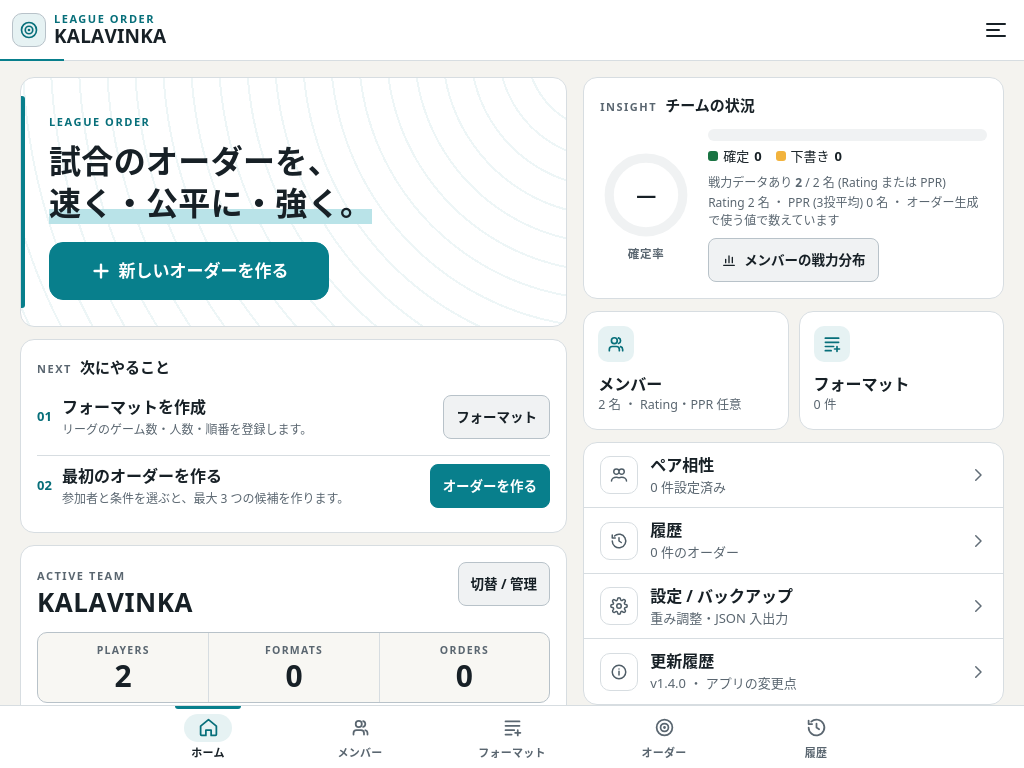
Test: linking an existing team › maps players by exact name, keeps local Rating, and adds the rest
The width and height of the screenshot is (1024, 768).
expect the heading named "KALAVINKA" is shown: met, box [53, 22, 166, 49]
What coordinates should you click on to do the following:
click the button "切替 / 管理"
I would click on:
 (504, 584)
Its box is [458, 562, 550, 606].
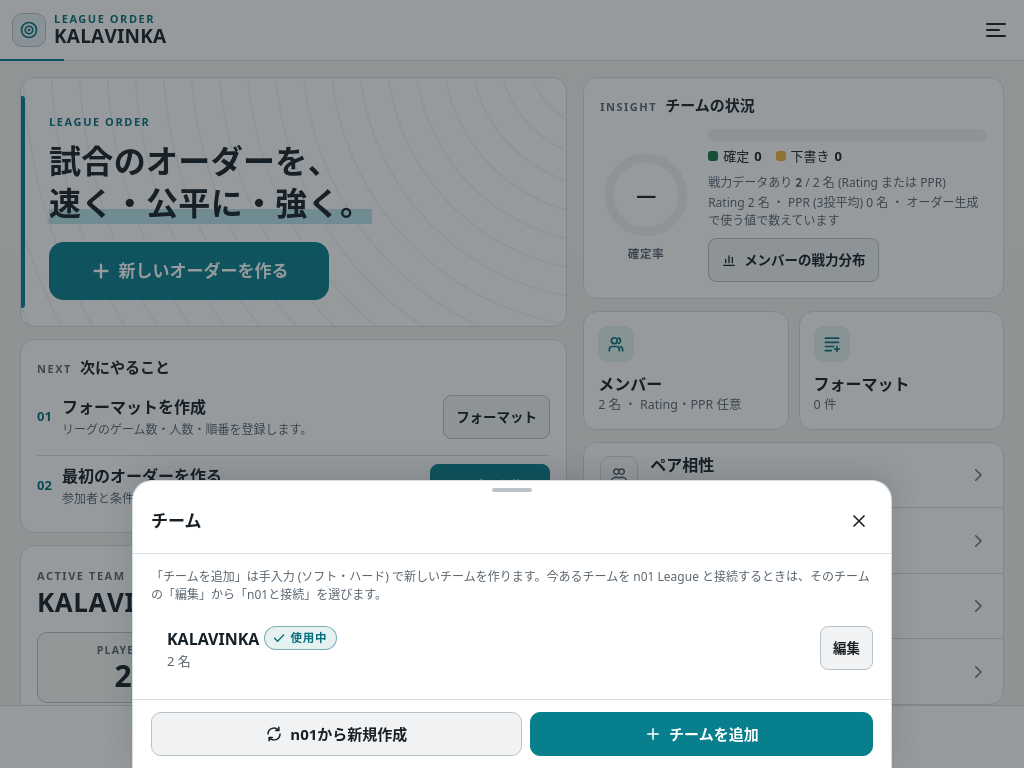
What coordinates should you click on to do the following:
click the button "編集"
I would click on:
 (846, 648)
Its box is [820, 626, 873, 670].
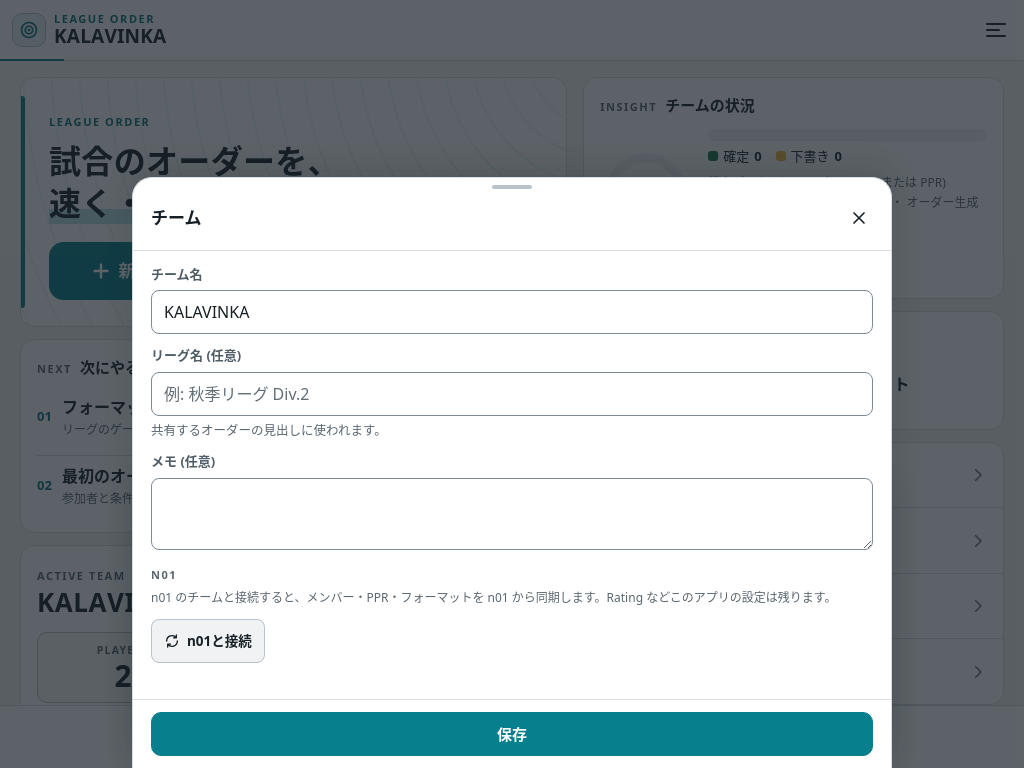
What coordinates should you click on to do the following:
click the button "n01と接続"
I would click on:
 (208, 641)
Its box is [151, 619, 265, 663].
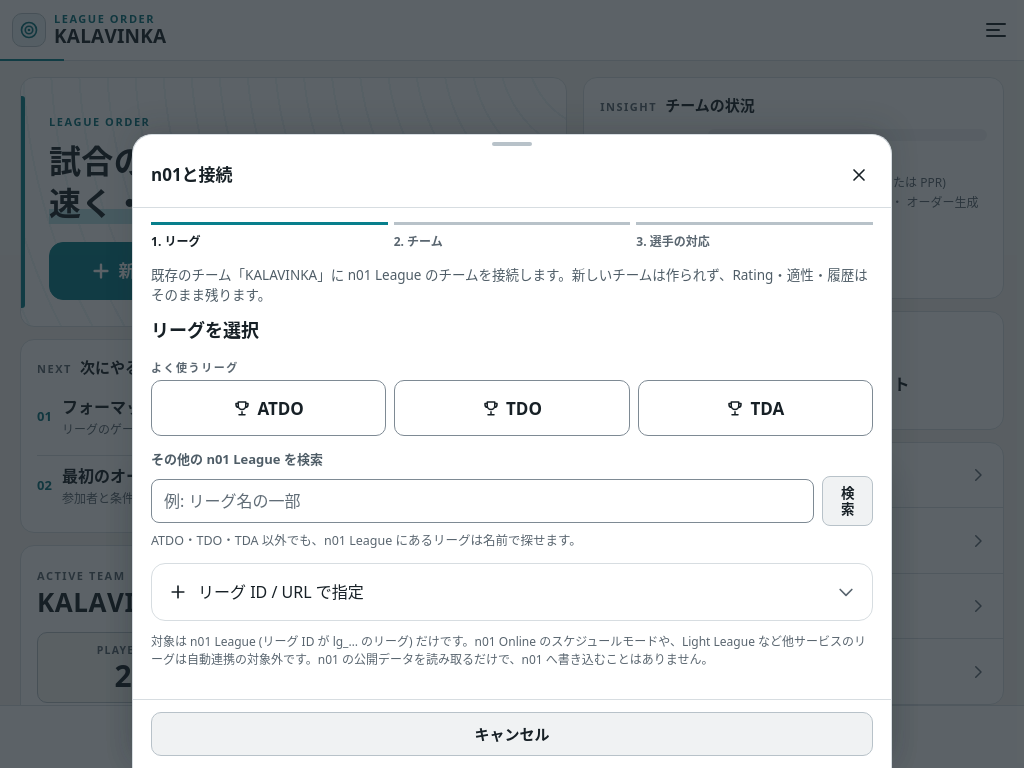
expect the text with test id "wizard-intro" shows "既存のチーム「KALAVINKA」に n01 League のチームを接続します": met, box [151, 266, 868, 304]
expect the text with test id "wizard-intro" shows "新しいチームは作られず": met, box [151, 266, 868, 304]
What coordinates should you click on to do the following:
click the button "ATDO"
I would click on:
 (269, 408)
Its box is [151, 380, 386, 436].
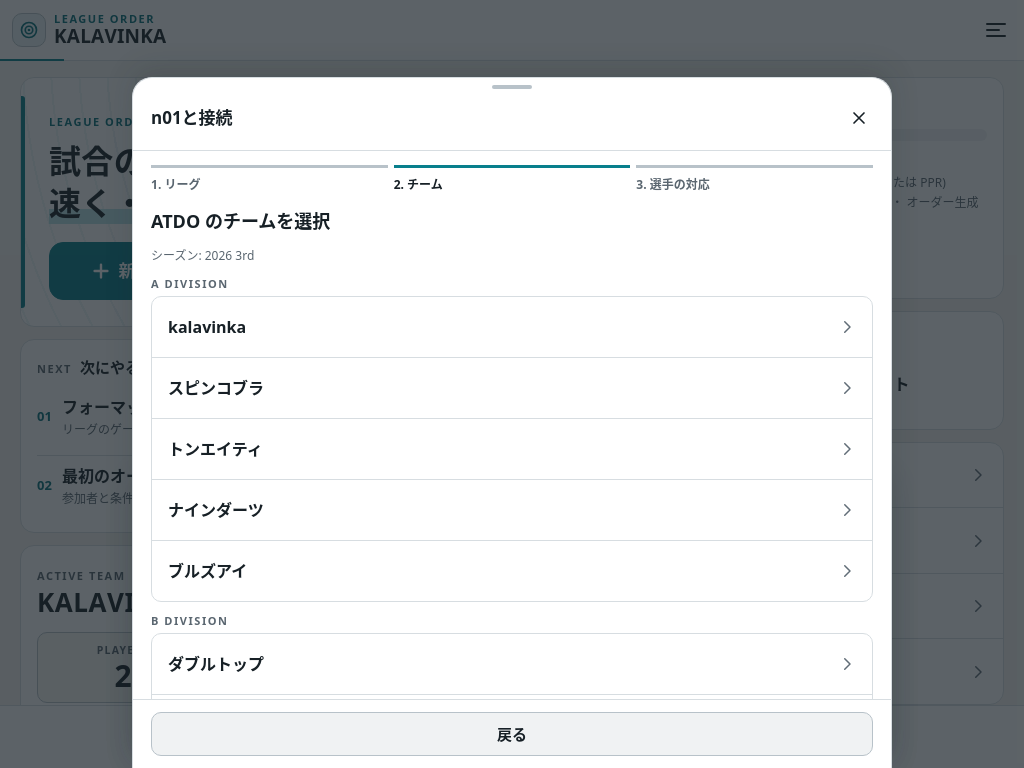
What coordinates should you click on to do the following:
click the button "kalavinka"
I would click on:
 (207, 327)
Its box is [152, 297, 872, 357].
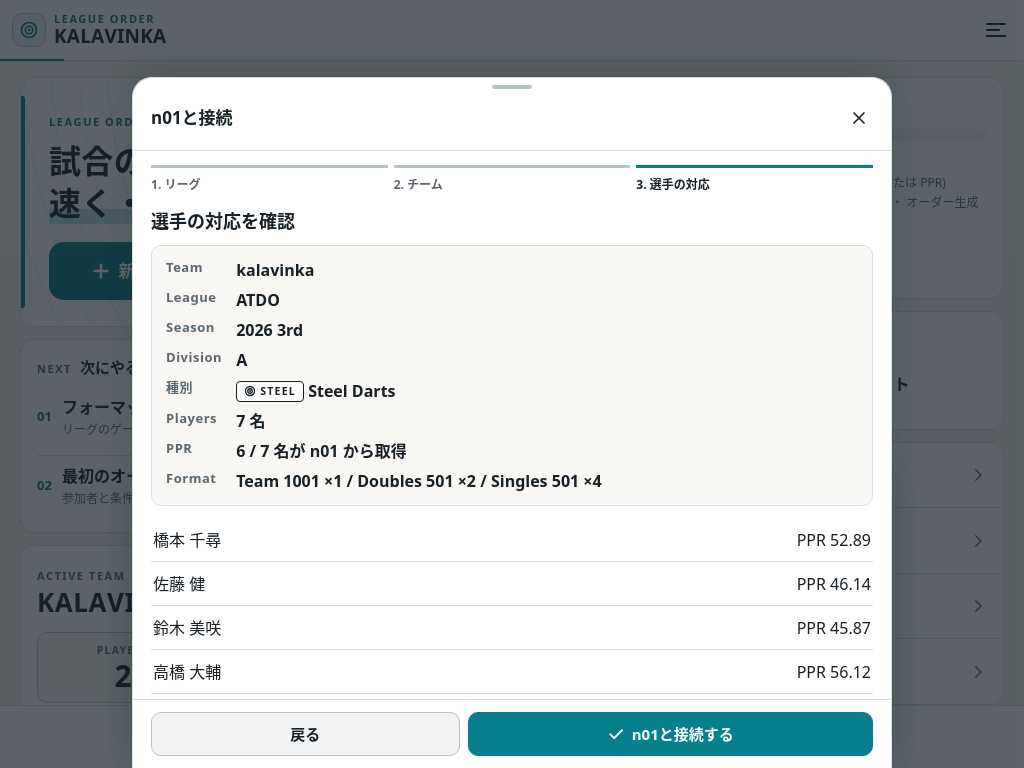
What coordinates should you click on to do the following:
click the button "n01と接続する"
I would click on:
 (670, 734)
Its box is [468, 712, 873, 756].
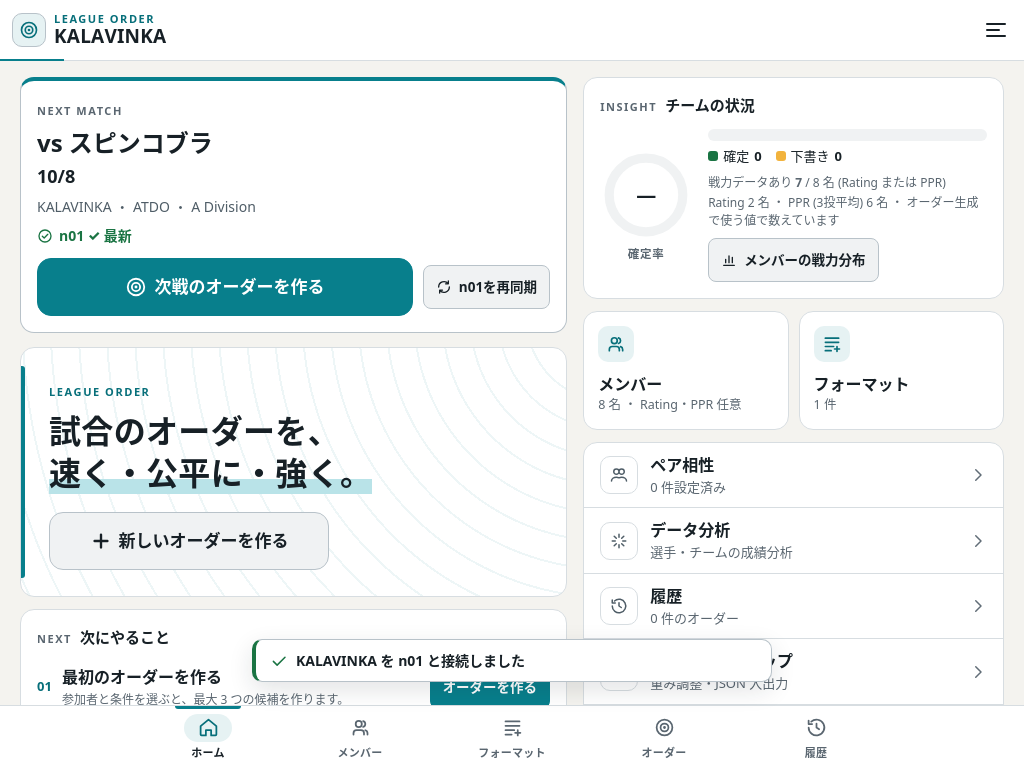
expect the text "n01と接続" is gone: met
